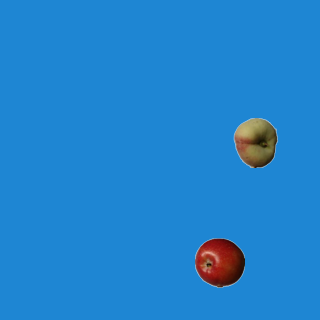Apple Braeburn: (194, 237, 244, 287)
Peach Flat: (230, 117, 280, 167)
